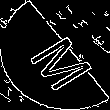M_NE: (16, 21, 94, 89)
